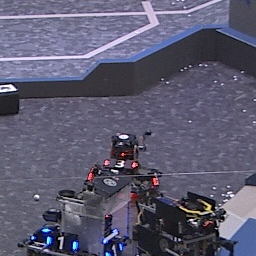Blue: (44, 233, 80, 253), (103, 242, 124, 256)
Red: (104, 158, 137, 169)
Robot: (22, 172, 133, 256), (85, 132, 165, 206), (137, 191, 228, 256)
